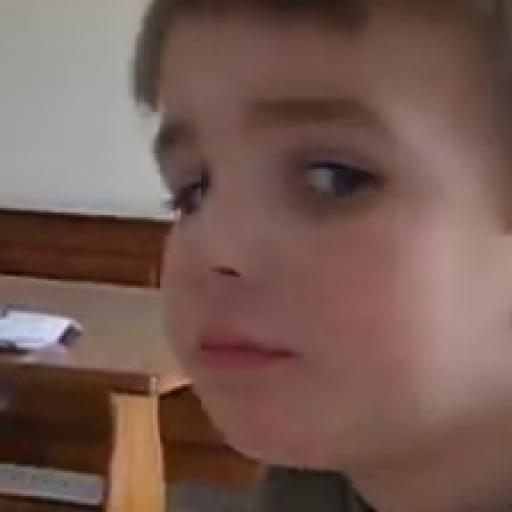Autism: (50, 20, 512, 512)
